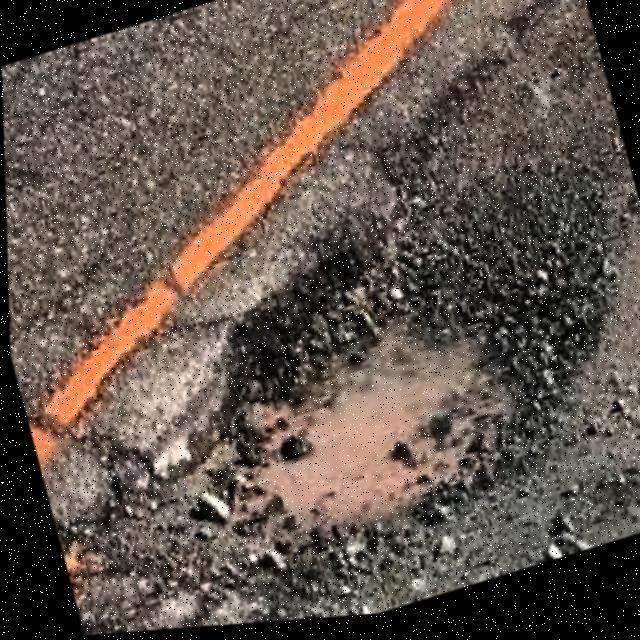pothole: (140, 188, 605, 608)
